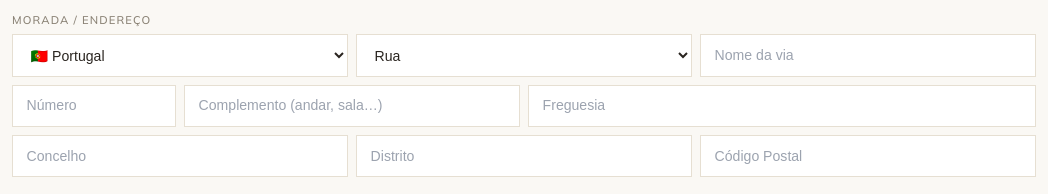
Scenario: AddressEditor › trocar para o Brasil mostra bairro, cidade, estado e CEP
Select "🇧🇷 Brasil" in the 1st dropdown at (180, 56), box [12,34,348,77]
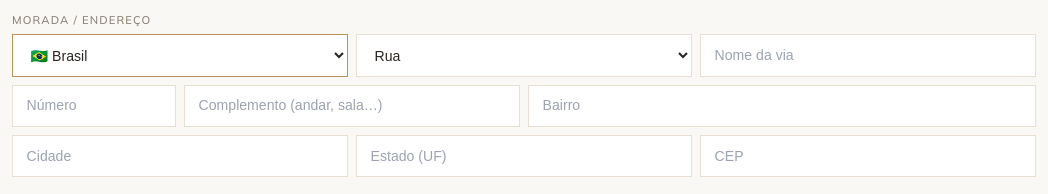
Result: the field with placeholder "Bairro" is shown at [528,85,1036,127]
Result: the field with placeholder "Cidade" is shown at [12,135,348,177]
Result: the field with placeholder "Estado (UF)" is shown at [356,135,692,177]
